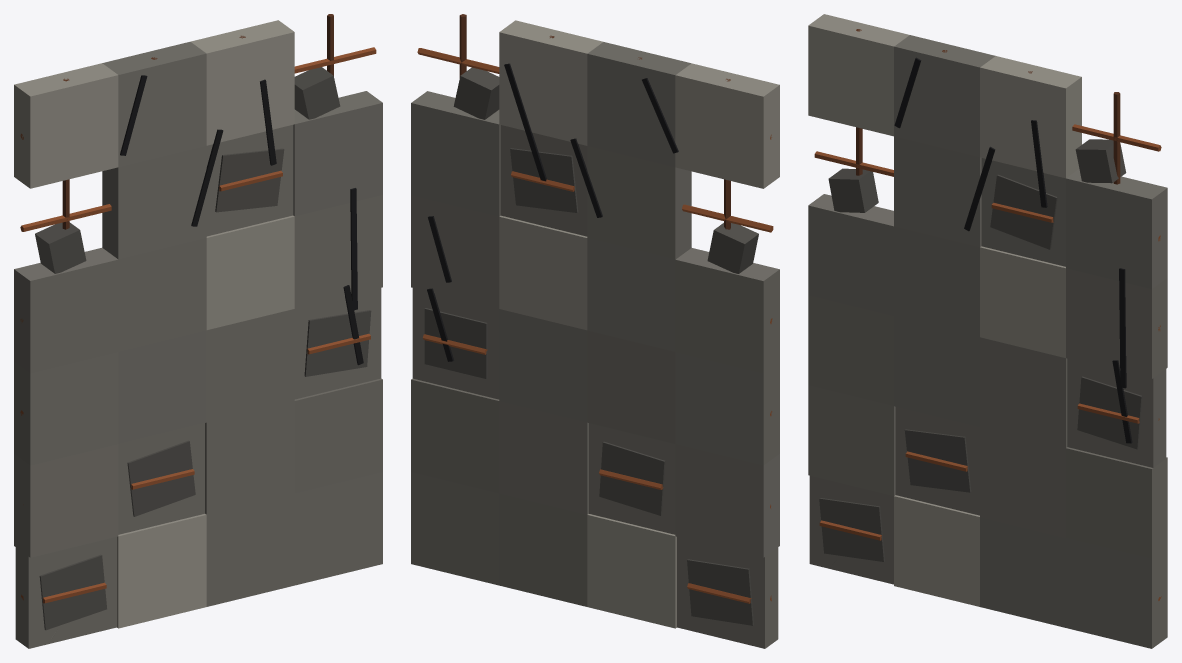
Rendered from piece_wall_concrete_damaged.fbx.
3 views of the same model, side by side, from view 1: azimuth 30°, elevation 25°; view 2: azimuth 150°, elevation 25°; view 3: azimuth 330°, elevation 25° (orthographic). The views are drawn at different scales.
Parts seen in each view (by area): view 1: piece_wall_concrete_damaged; view 2: piece_wall_concrete_damaged; view 3: piece_wall_concrete_damaged.
Part boxes in pixels (left/top/right/bottom): piece_wall_concrete_damaged: left=14, top=14, right=382, bottom=648; piece_wall_concrete_damaged: left=411, top=14, right=779, bottom=648; piece_wall_concrete_damaged: left=808, top=14, right=1167, bottom=648.
Bounding box in the file's own units: 2 × 3 × 0.1889.
